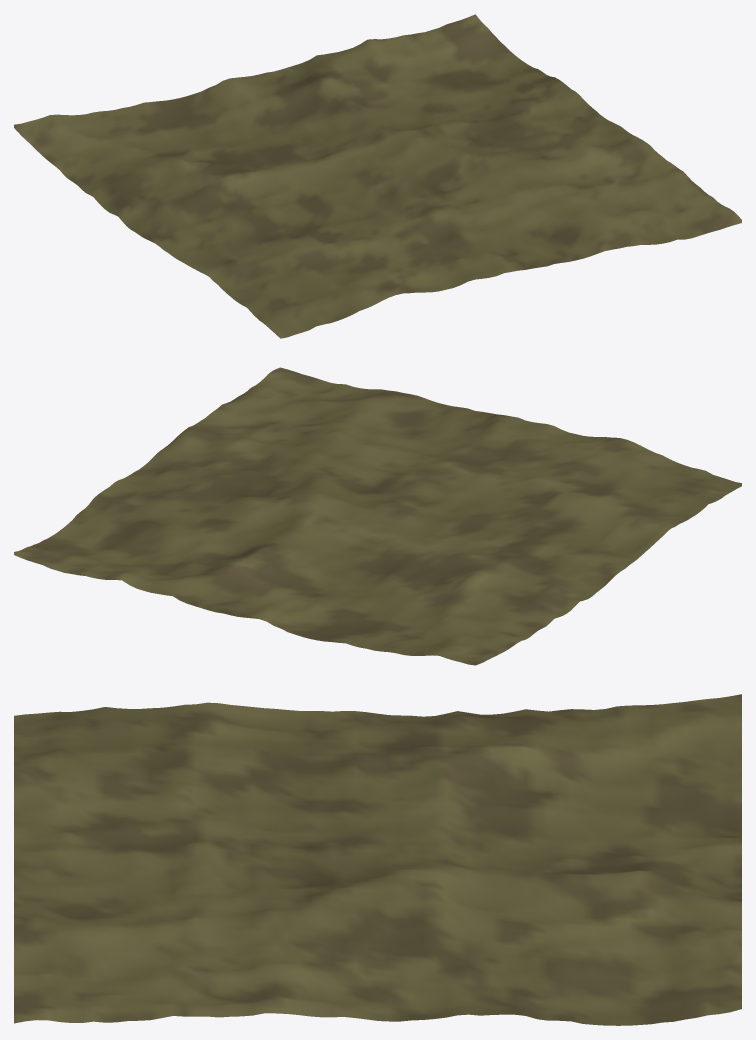
The model's file is land_f_09_03.glb.
3 renders of one model, top to bottom at view 1: azimuth 30°, elevation 25°; view 2: azimuth 150°, elevation 25°; view 3: azimuth 270°, elevation 25°, orthographic. The views are drawn at different scales.
Parts seen in each view (by area): view 1: land_f_09_03; view 2: land_f_09_03; view 3: land_f_09_03.
Part boxes in pixels (x1,y1,x2,y2): land_f_09_03: [14, 14, 741, 338]; land_f_09_03: [14, 367, 741, 665]; land_f_09_03: [14, 694, 741, 1025].
Bounding box in the file's own units: 3840 × 222 × 3840.
